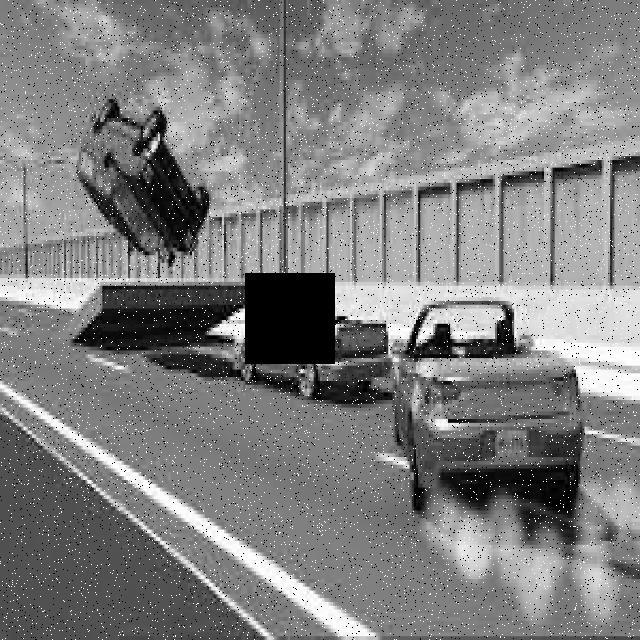severe: (75, 90, 212, 264)
